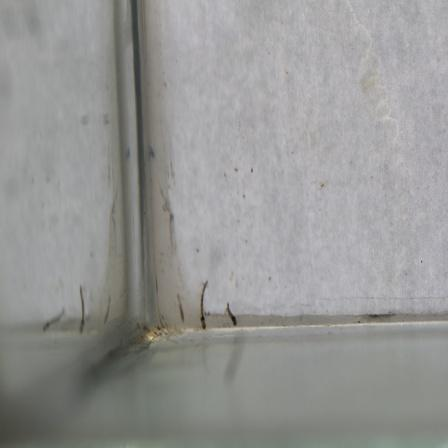Jentik-Nyamuk: (194, 275, 211, 333), (223, 300, 240, 328)
